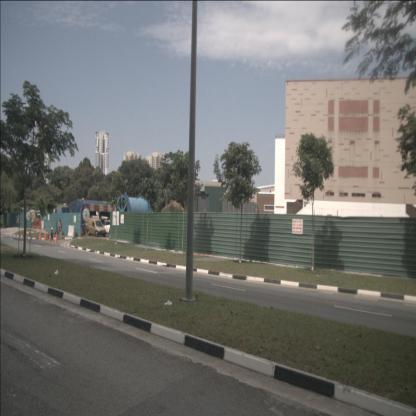barrier: (34, 221, 42, 228), (42, 221, 48, 228)
cone: (54, 232, 58, 244), (44, 231, 47, 241), (39, 230, 42, 240), (35, 230, 38, 239), (49, 232, 51, 242)
